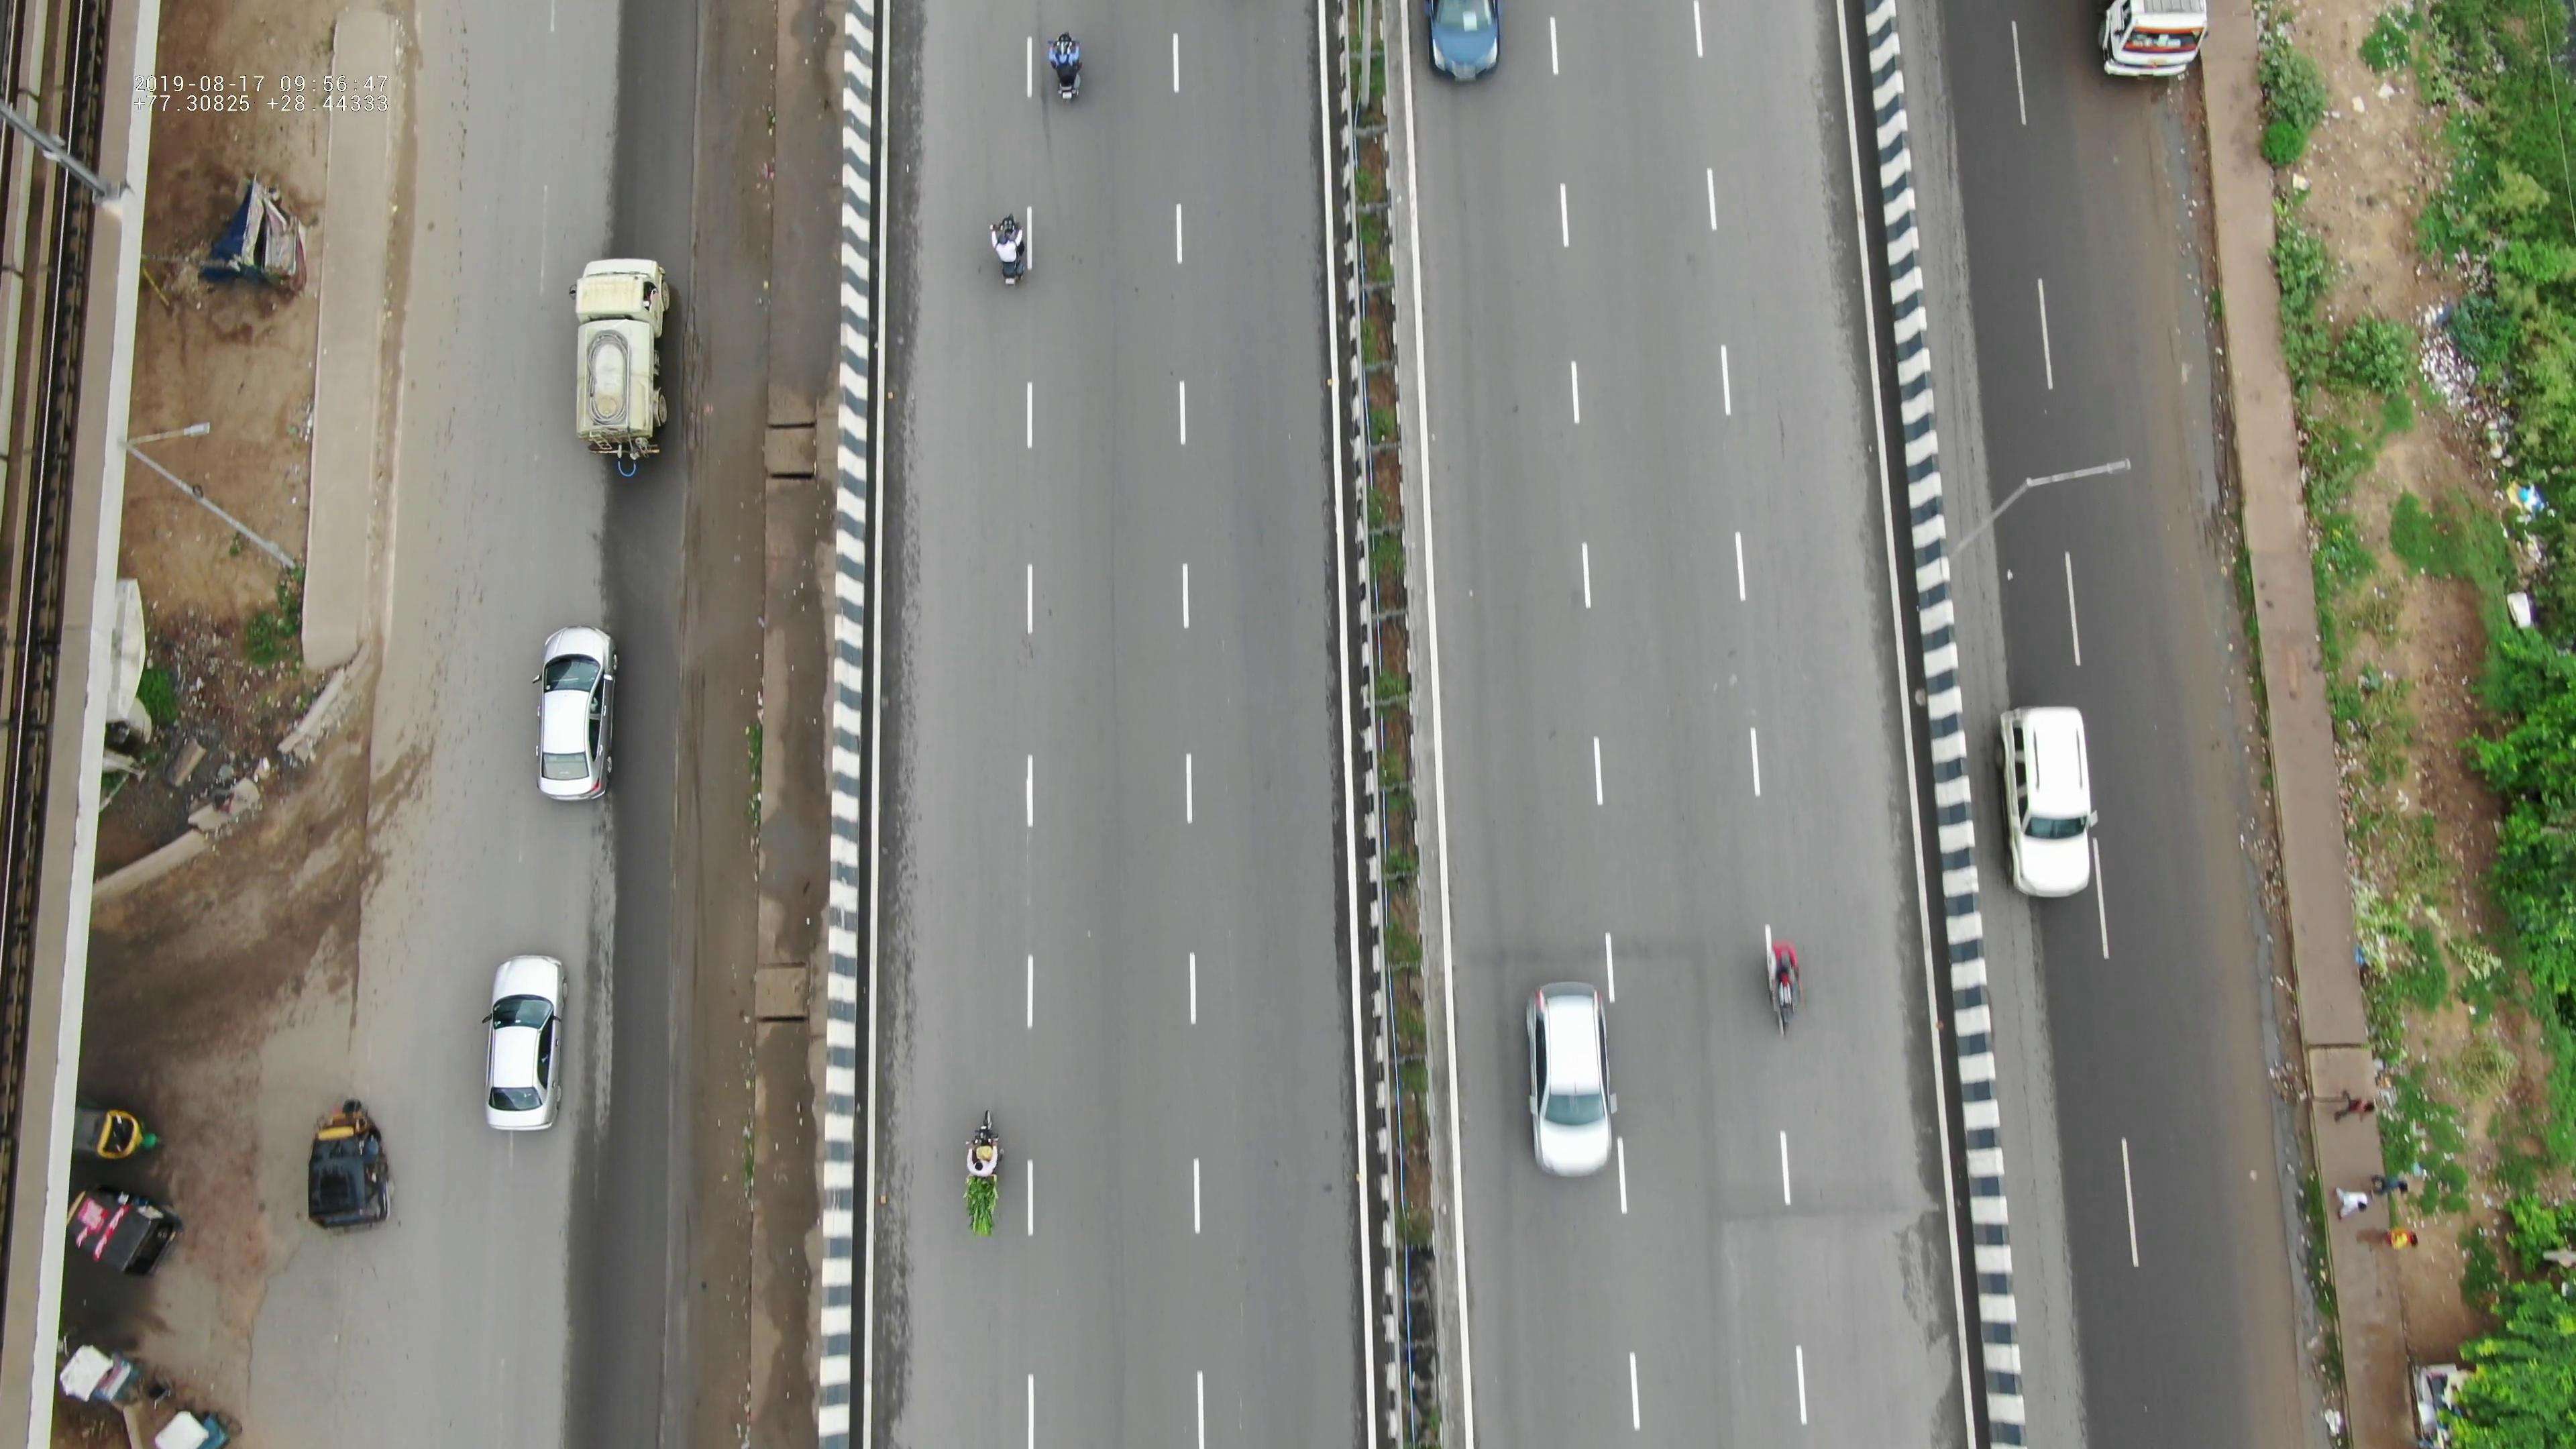Muddy_road: (678, 531, 830, 869), (686, 1090, 833, 1417), (718, 2, 844, 322)
